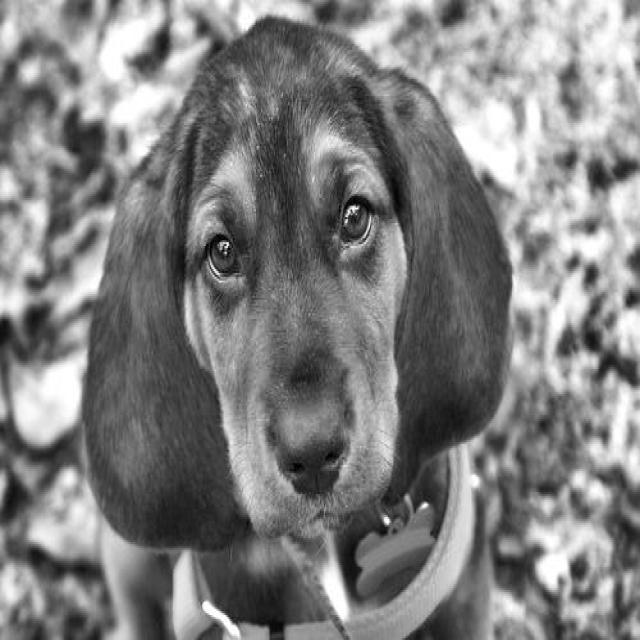bloodhound: (78, 6, 520, 636)
